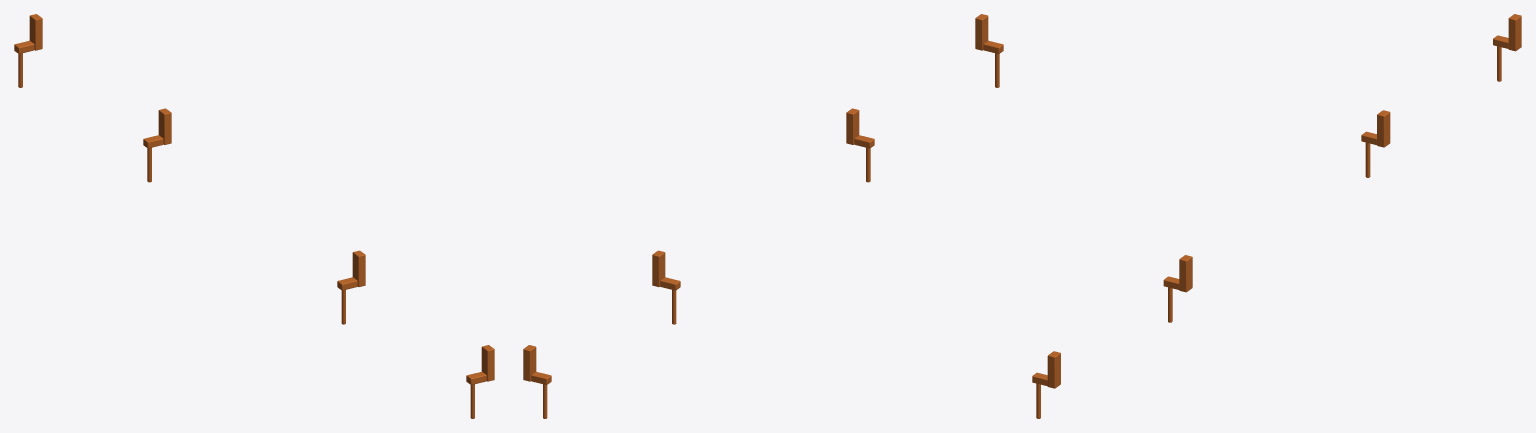
Rendered from stacker_layer_stops.glb.
3 renders of one model, left to right at view 1: azimuth 30°, elevation 25°; view 2: azimuth 150°, elevation 25°; view 3: azimuth 330°, elevation 25°, orthographic.
Parts seen in each view (by area): view 1: LayerStops; view 2: LayerStops; view 3: LayerStops.
Part boxes in pixels (box(x1,y1,x2,y2)): LayerStops: box(14, 14, 494, 418); LayerStops: box(523, 14, 1003, 418); LayerStops: box(1032, 14, 1521, 418).
Bounding box in the file's own units: 0.11 × 0.3 × 3.73.
